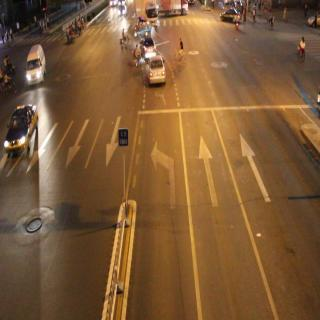BigCar: (137, 0, 161, 26)
Car: (4, 105, 37, 153), (26, 44, 45, 82), (148, 56, 164, 84), (219, 7, 240, 25), (141, 38, 156, 57)
